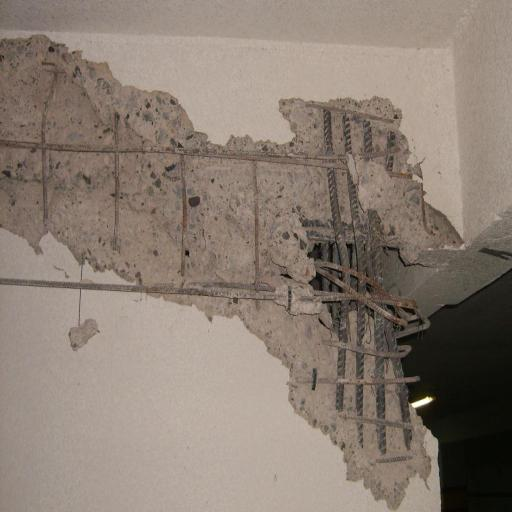spalling: (0, 37, 463, 506)
